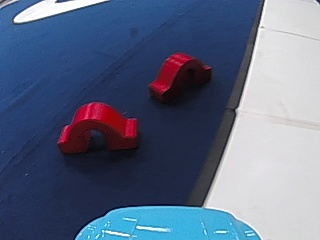bridge: (53, 97, 138, 155), (144, 48, 212, 105)
